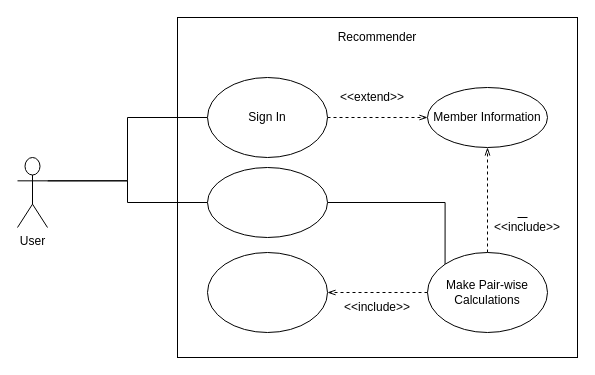
The diagram is 595 pixels wide and 375 high, and some of its shapes have lost their labels. The box of each missing label's shape, as (x1, y1, x2, y2) in pixels:
Collection of User Ratings: (206, 252, 328, 332)
Request Suggestions: (206, 166, 328, 238)
